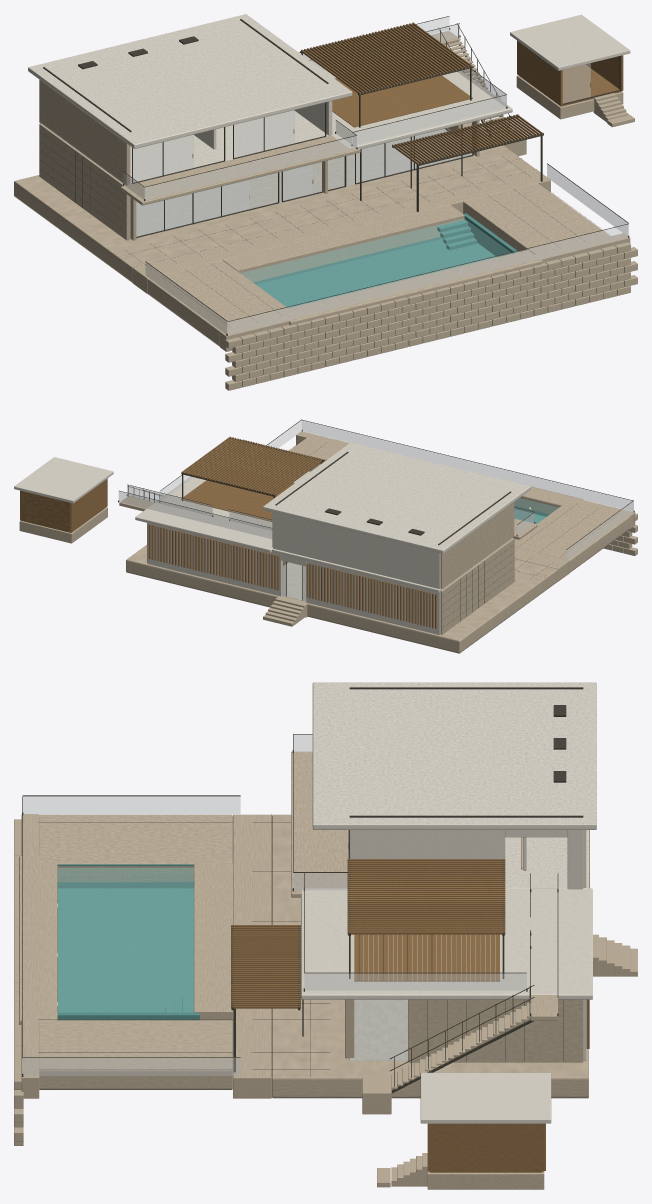
Rendered from 0_architecture.glb.
The picture shows the model from 3 angles, top to bottom: view 1: azimuth 30°, elevation 25°; view 2: azimuth 150°, elevation 25°; view 3: azimuth 270°, elevation 25°; orthographic projection. The views are drawn at different scales.
Parts seen in each view (by area): view 1: WEB_BATCH_034, WEB_BATCH_022, WEB_BATCH_046, WEB_BATCH_014, WEB_BATCH_042, WEB_BATCH_053, WEB_BATCH_027, WEB_BATCH_017, WEB_BATCH_006, WEB_BATCH_031, WEB_BATCH_002, WEB_BATCH_021 (+18 smaller); view 2: WEB_BATCH_022, WEB_BATCH_046, WEB_BATCH_034, WEB_BATCH_024, WEB_BATCH_038, WEB_BATCH_023, WEB_BATCH_002, WEB_BATCH_027, WEB_BATCH_053, WEB_BATCH_006, WEB_BATCH_007, WEB_BATCH_048 (+13 smaller); view 3: WEB_BATCH_022, WEB_BATCH_046, WEB_BATCH_014, WEB_BATCH_034, WEB_BATCH_002, WEB_BATCH_042, WEB_BATCH_053, WEB_BATCH_035, WEB_BATCH_045, WEB_BATCH_031, WEB_BATCH_015, WEB_BATCH_017 (+12 smaller).
Boxes of the visible parts, x1,y1,x2,y2 form: WEB_BATCH_034: [14, 122, 535, 282]; WEB_BATCH_022: [28, 14, 352, 148]; WEB_BATCH_046: [300, 22, 512, 149]; WEB_BATCH_014: [241, 219, 511, 308]; WEB_BATCH_042: [463, 163, 628, 256]; WEB_BATCH_053: [510, 14, 630, 119]; WEB_BATCH_027: [219, 223, 630, 351]; WEB_BATCH_017: [223, 195, 464, 284]; WEB_BATCH_006: [39, 123, 193, 240]; WEB_BATCH_031: [118, 137, 550, 293]; WEB_BATCH_002: [145, 260, 293, 346]; WEB_BATCH_021: [39, 110, 329, 185]; WEB_BATCH_022: [263, 442, 530, 553]; WEB_BATCH_046: [135, 436, 323, 552]; WEB_BATCH_034: [126, 545, 557, 653]; WEB_BATCH_024: [273, 512, 440, 589]; WEB_BATCH_038: [147, 523, 307, 622]; WEB_BATCH_023: [302, 560, 440, 634]; WEB_BATCH_002: [514, 500, 633, 572]; WEB_BATCH_027: [296, 420, 635, 528]; WEB_BATCH_053: [14, 457, 113, 543]; WEB_BATCH_006: [440, 538, 514, 634]; WEB_BATCH_007: [440, 502, 517, 596]; WEB_BATCH_048: [119, 484, 272, 538]; WEB_BATCH_022: [312, 682, 596, 829]; WEB_BATCH_046: [301, 860, 592, 999]; WEB_BATCH_014: [57, 868, 193, 1012]; WEB_BATCH_034: [272, 814, 588, 1098]; WEB_BATCH_002: [22, 795, 240, 888]; WEB_BATCH_042: [22, 1012, 240, 1089]; WEB_BATCH_053: [410, 1072, 551, 1189]; WEB_BATCH_035: [347, 830, 505, 890]; WEB_BATCH_045: [345, 999, 583, 1062]; WEB_BATCH_031: [233, 814, 329, 1098]; WEB_BATCH_015: [19, 856, 57, 1024]; WEB_BATCH_017: [194, 863, 300, 1021].
Bounding box in the file's own units: 43.88 × 12.22 × 32.06.
Materials: 130 (58 with a texture image).
